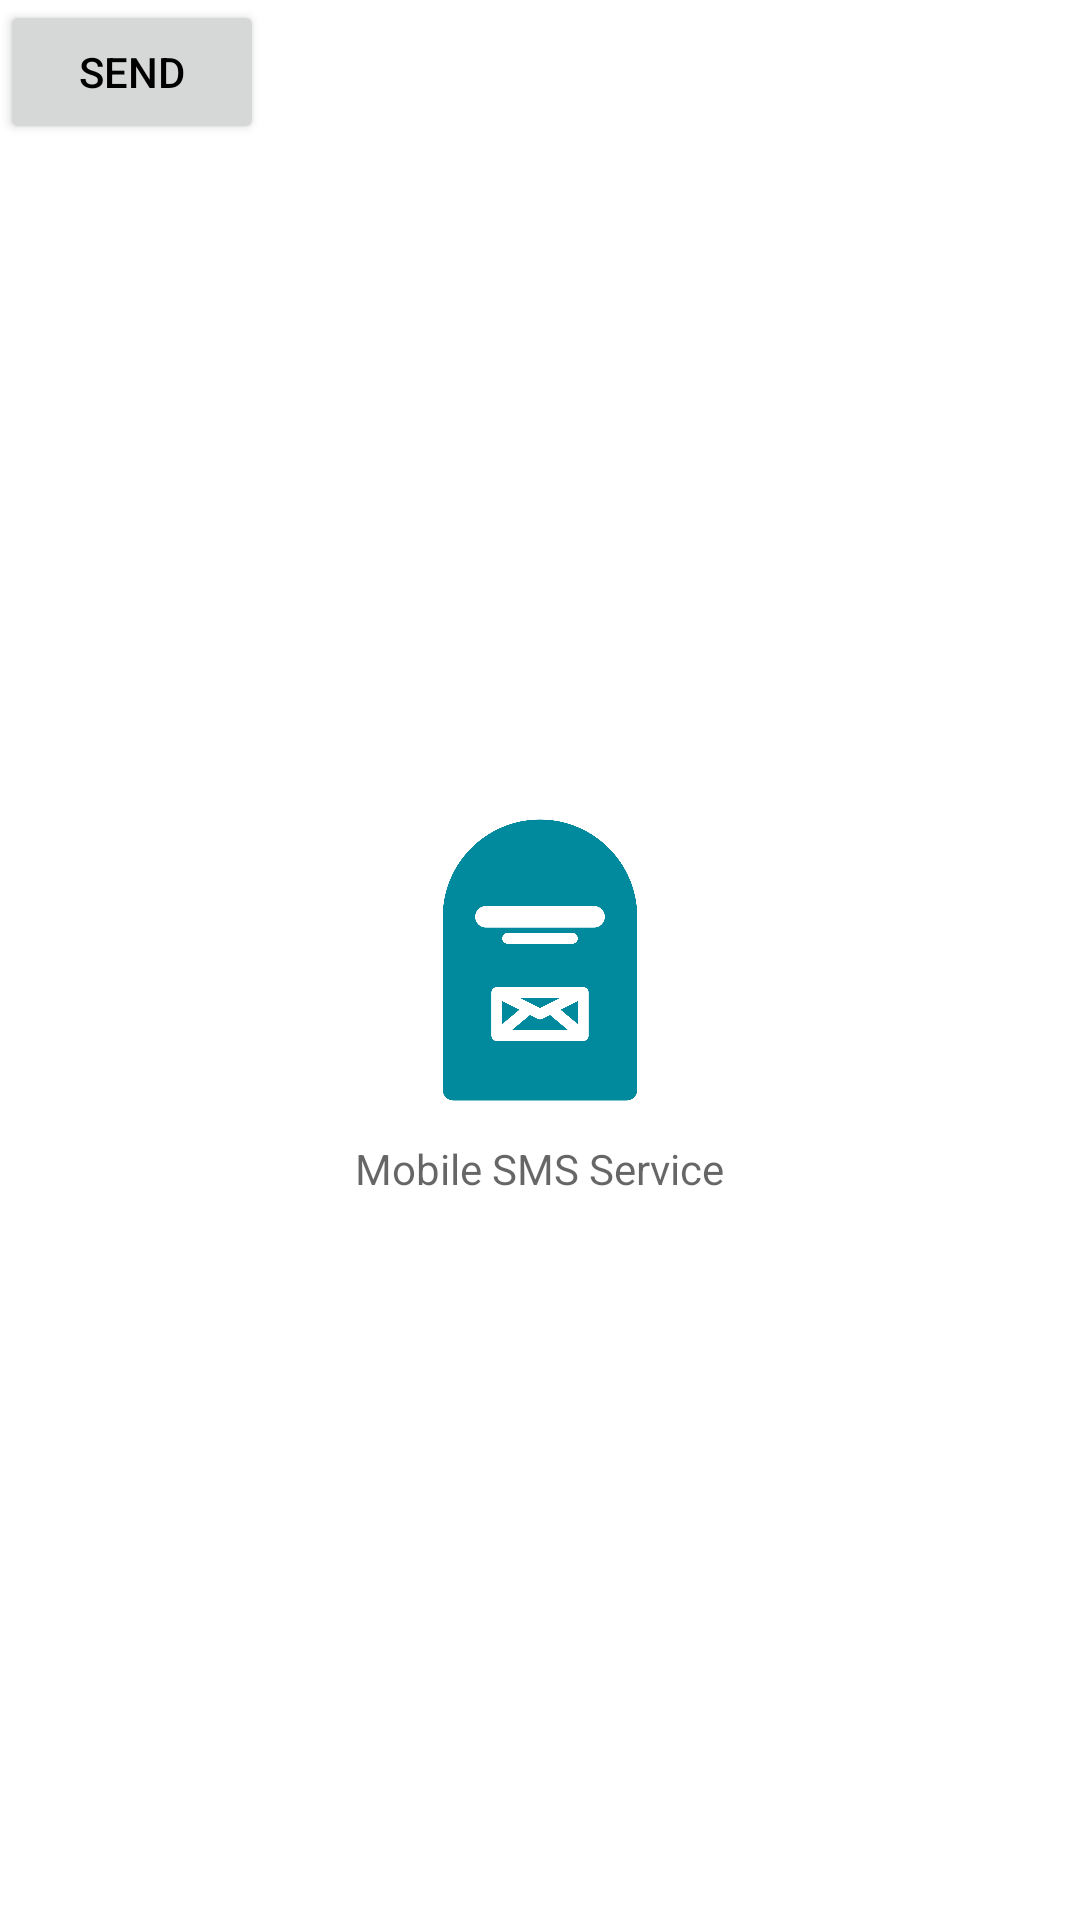

Where icons sit on this 1080*1920 app screen, as (x1, y1, x2, y2):
app: (443, 819, 637, 1101)
